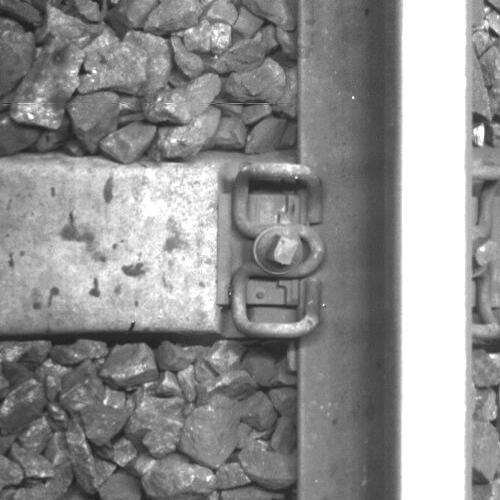rail: (398, 1, 469, 500)
tie_concr: (1, 162, 296, 332)
vossloh: (218, 161, 325, 340)
